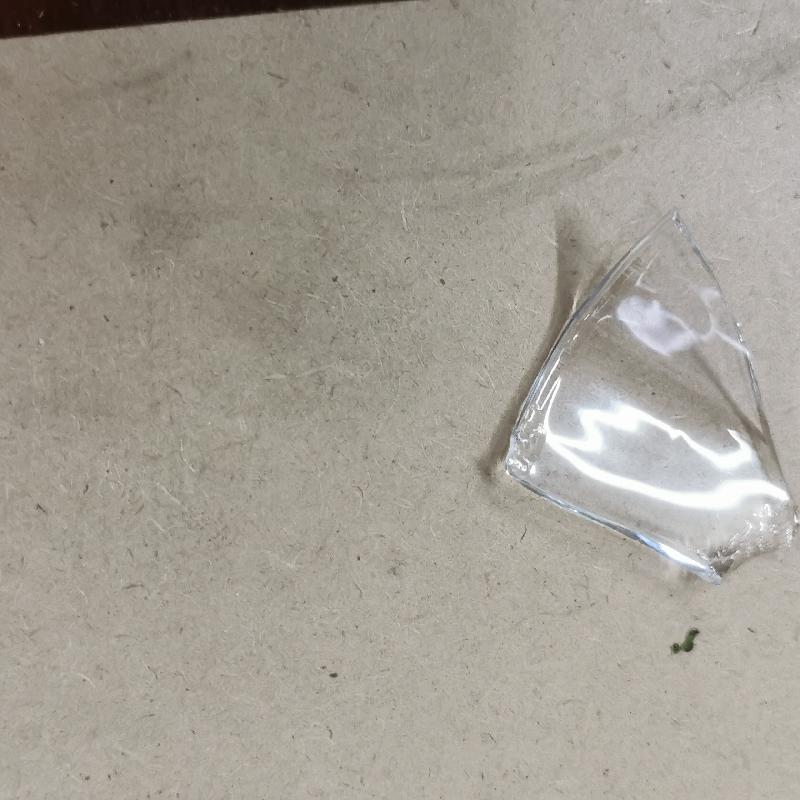glass: (498, 207, 800, 580)
